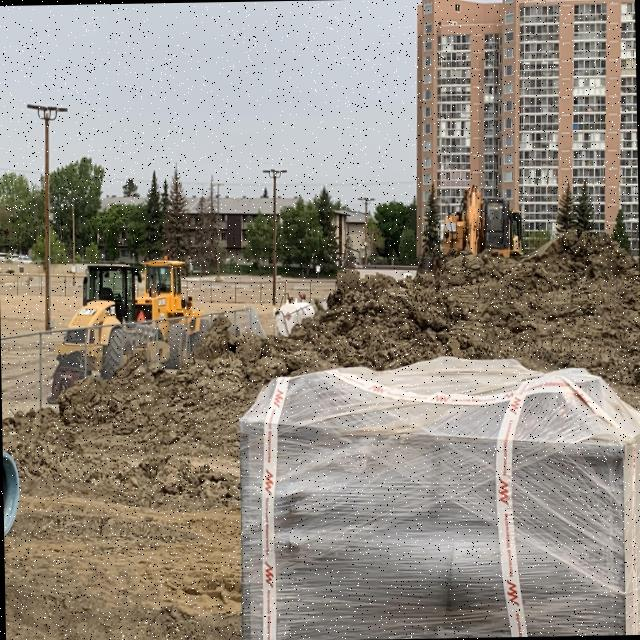Excavator: (437, 184, 525, 259)
Loader: (136, 258, 214, 360)
Roller: (45, 257, 164, 403)
